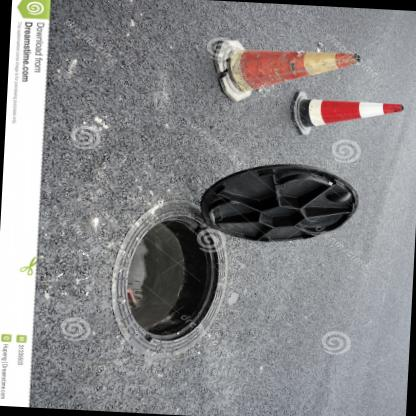manholes: (98, 150, 362, 377)
